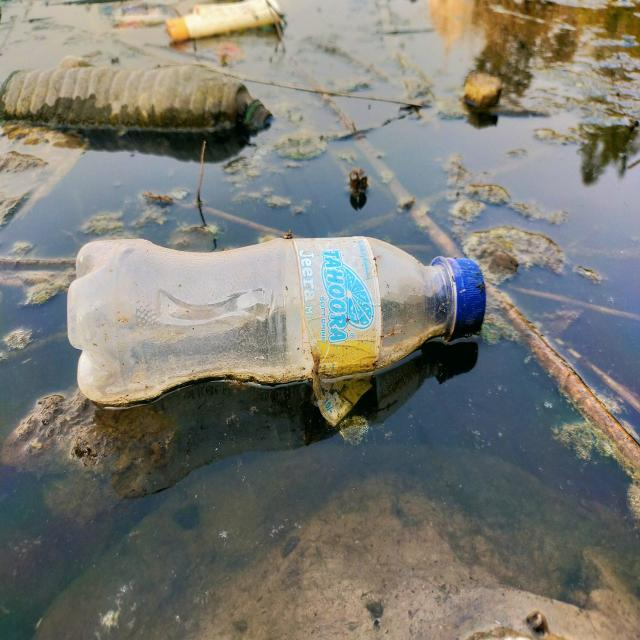bottle: (61, 224, 483, 421)
